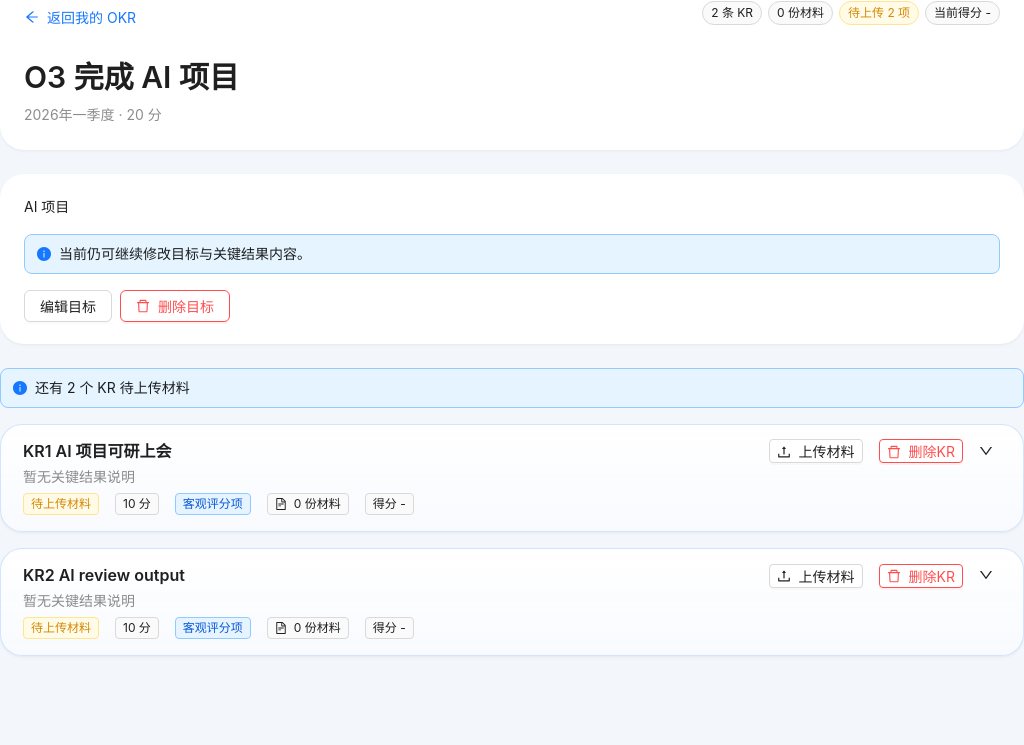
EmployeeGoalPage › hides draft status text and keeps proof upload as the only completion path
This screenshot has width=1024, height=745.
Expected: the button "编辑目标" is shown, 24,290 -> 112,322
Click the button "KR1 AI 项目可研上会 暂无关键结果说明 待上传材料 10 分 客观评分项 0 份材料 得分 -": [114, 451] box 23,439 -> 763,515
(page scrolled)
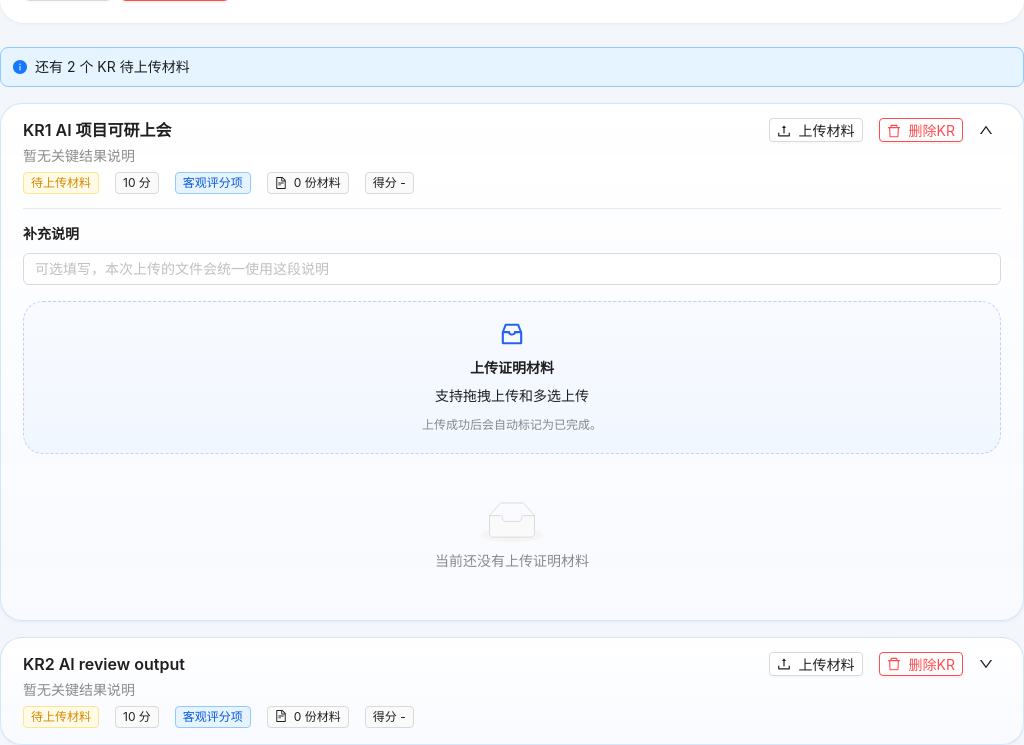
Now the field with placeholder "可选填写，本次上传的文件会统一使用这段说明" is shown, box 23,253 -> 1001,285
Now the text "当前还没有上传证明材料" is shown, box 435,552 -> 589,569
